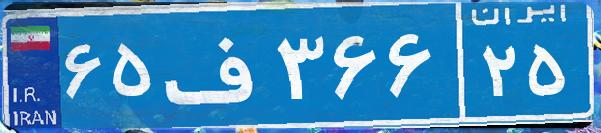2: (475, 38, 525, 113)
3: (273, 28, 330, 110)
5: (110, 28, 158, 105), (525, 38, 570, 115)
6: (385, 28, 445, 110), (330, 28, 385, 110), (57, 26, 110, 107)
ف: (158, 15, 273, 115)
